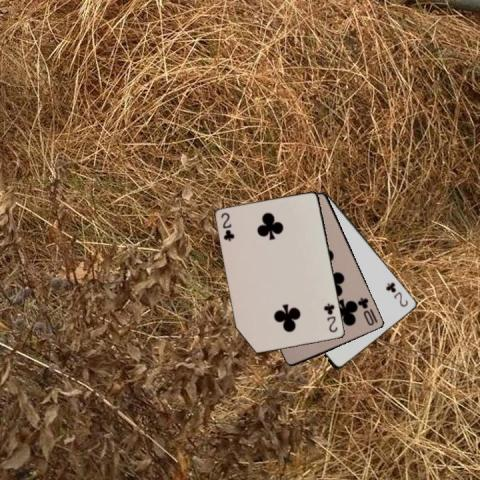10c: (355, 295, 379, 327)
2c: (383, 279, 410, 309), (321, 301, 339, 334), (219, 210, 236, 243)
